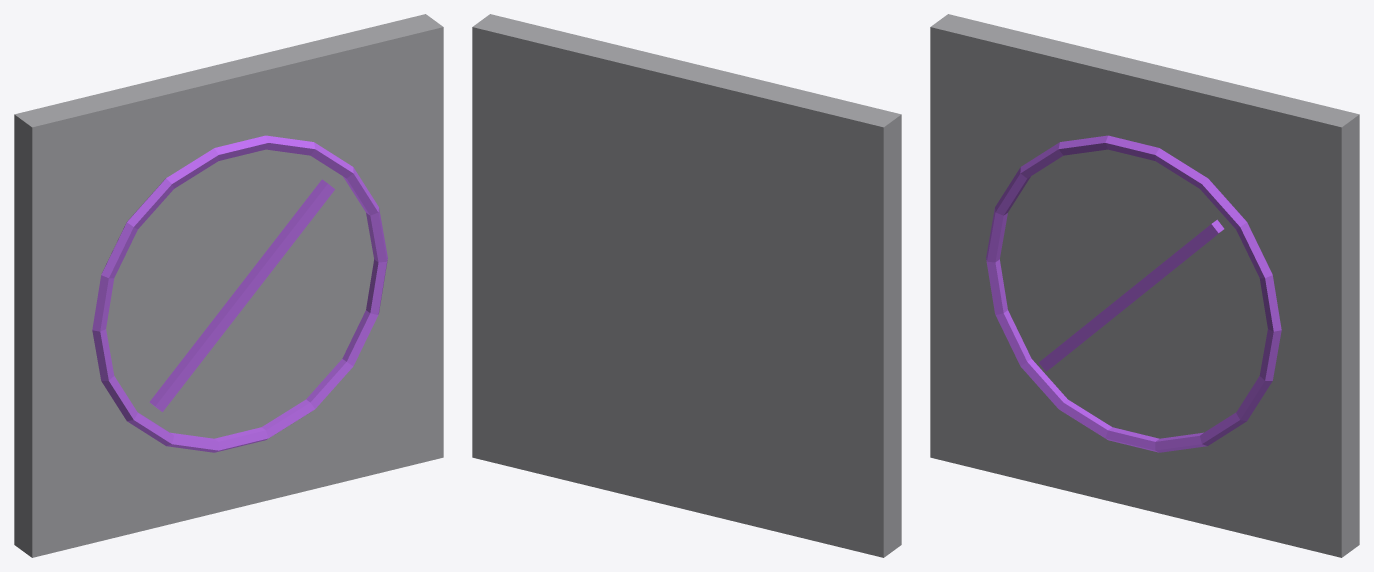
Rendered from ruins_rune_floor_slab.glb.
3 renders of one model, left to right at view 1: azimuth 30°, elevation 25°; view 2: azimuth 150°, elevation 25°; view 3: azimuth 330°, elevation 25°, orthographic.
Visible parts, largest first — view 1: slab, rune_ring, rune_line; view 2: slab; view 3: slab, rune_ring, rune_line.
Part boxes in pixels (left/top/right/bottom): slab: left=14, top=14, right=443, bottom=557; rune_ring: left=92, top=135, right=387, bottom=452; rune_line: left=149, top=179, right=334, bottom=411; slab: left=472, top=14, right=901, bottom=557; slab: left=930, top=14, right=1359, bottom=557; rune_ring: left=986, top=135, right=1281, bottom=452; rune_line: left=1039, top=219, right=1224, bottom=371.
Bounding box in the file's own units: 1.6 × 1.6 × 0.17.
